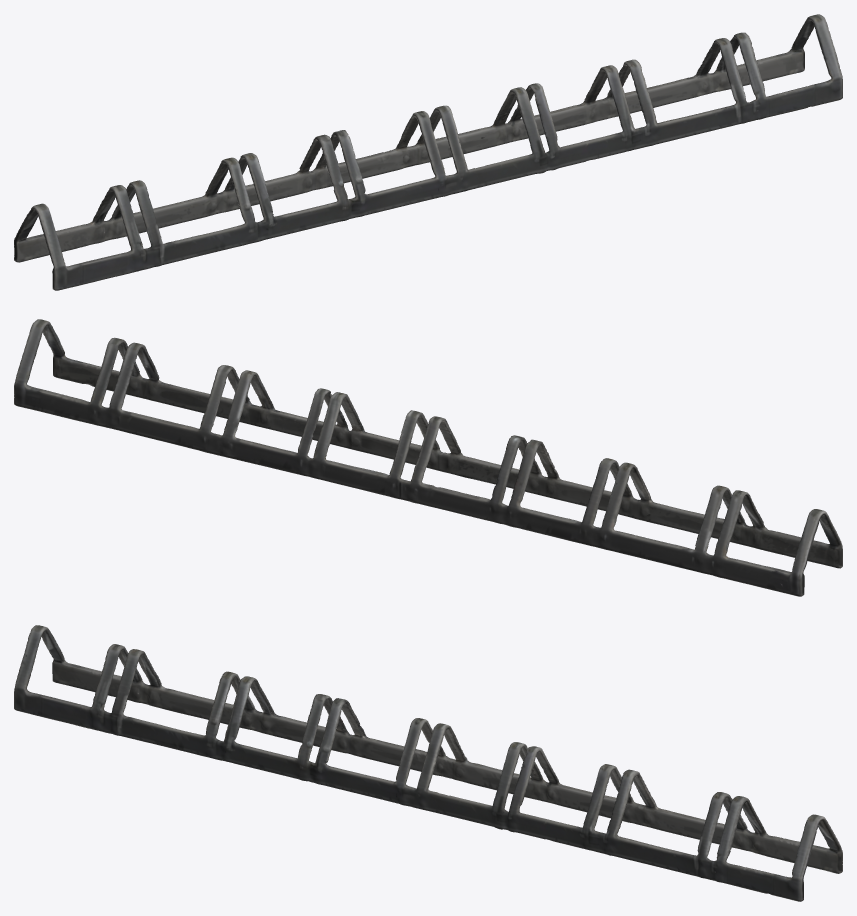
Rendered from Meshy_AI_Arched_bike_rack_0318093348_texture.glb.
The picture shows the model from 3 angles, top to bottom: view 1: azimuth 30°, elevation 25°; view 2: azimuth 150°, elevation 25°; view 3: azimuth 330°, elevation 25°; orthographic projection.
Bounding box in the file's own units: 2.01 × 0.1731 × 0.1923.
Materials: 1 (1 with a texture image).
